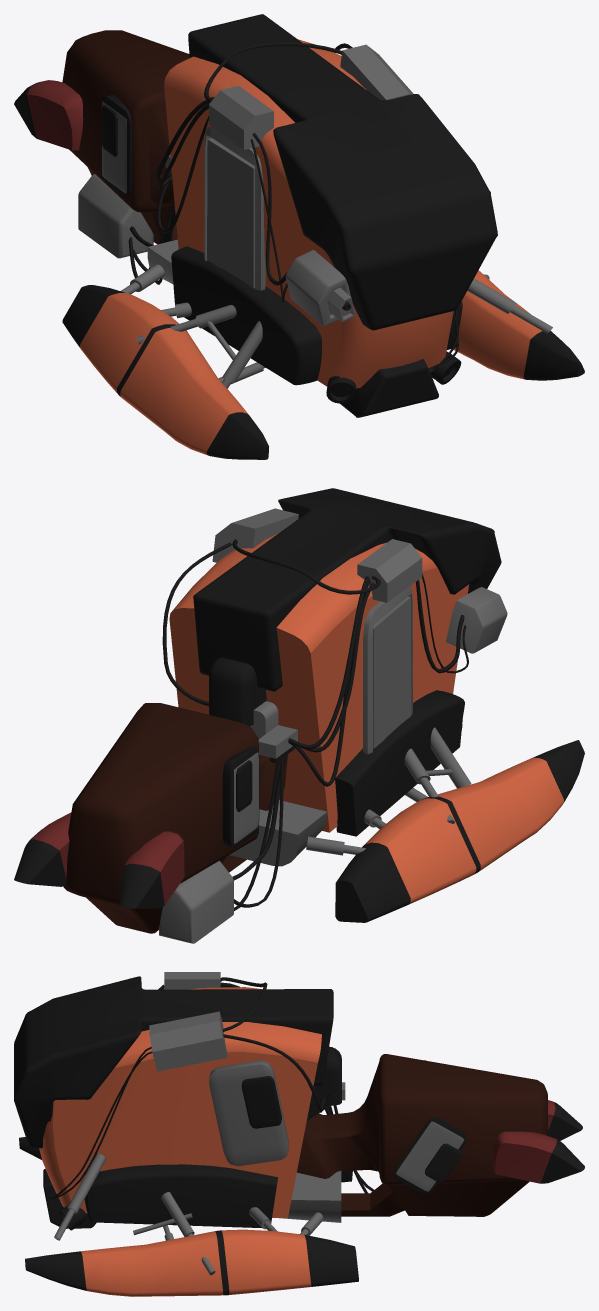
File: Rover.fbx
3 renders of one model, top to bottom at view 1: azimuth 30°, elevation 25°; view 2: azimuth 150°, elevation 25°; view 3: azimuth 270°, elevation 25°, orthographic. The views are drawn at different scales.
Visible parts, largest first — view 1: Cube.029, Cube.006, Survival Mars, Cube.004, Cube.017, Cube.026, Cube.013, Cube.015, Cube.012, Cube.031, Cube.025, Cube.030 (+10 smaller); view 2: Cube.004, Survival Mars, Cube.029, Cube.006, Cube.017, Cube.026, Cube.015, Cube.013, Cube.008, Cube.022, Cube.012, Cube.025 (+16 smaller); view 3: Survival Mars, Cube.004, Cube.029, Cube.006, Cube.017, Cube.027, Cube.015, Cube.030, Cube.020, Cube.008, Cube.028, Cube.022 (+8 smaller).
Boxes of the visible parts, bbox=[...] form: Cube.029: bbox=[188, 14, 497, 330]; Cube.006: bbox=[62, 270, 584, 459]; Survival Mars: bbox=[164, 39, 453, 388]; Cube.004: bbox=[62, 30, 189, 244]; Cube.017: bbox=[171, 246, 462, 385]; Cube.026: bbox=[204, 126, 265, 290]; Cube.013: bbox=[78, 174, 153, 258]; Cube.015: bbox=[14, 80, 83, 150]; Cube.012: bbox=[285, 250, 355, 326]; Cube.031: bbox=[340, 359, 438, 417]; Cube.025: bbox=[209, 85, 273, 149]; Cube.030: bbox=[340, 44, 413, 100]; Cube.004: bbox=[63, 703, 287, 933]; Survival Mars: bbox=[169, 533, 469, 832]; Cube.029: bbox=[193, 488, 501, 691]; Cube.006: bbox=[335, 740, 584, 922]; Cube.017: bbox=[335, 690, 464, 836]; Cube.026: bbox=[363, 586, 412, 754]; Cube.015: bbox=[14, 812, 184, 908]; Cube.013: bbox=[159, 860, 233, 943]; Cube.008: bbox=[229, 800, 327, 866]; Cube.022: bbox=[209, 657, 266, 726]; Cube.012: bbox=[446, 587, 507, 653]; Cube.025: bbox=[357, 539, 422, 602]; Survival Mars: bbox=[39, 987, 321, 1218]; Cube.004: bbox=[297, 1054, 547, 1216]; Cube.029: bbox=[14, 976, 333, 1148]; Cube.006: bbox=[19, 1137, 358, 1296]; Cube.017: bbox=[84, 1164, 278, 1228]; Cube.027: bbox=[209, 1060, 288, 1166]; Cube.015: bbox=[492, 1100, 584, 1183]; Cube.030: bbox=[149, 1011, 227, 1071]; Cube.020: bbox=[393, 1117, 466, 1194]; Cube.008: bbox=[279, 1171, 341, 1222]; Cube.028: bbox=[241, 1076, 281, 1128]; Cube.022: bbox=[307, 1046, 341, 1120].
Bounding box in the file's own units: 1118 × 884 × 1877.
